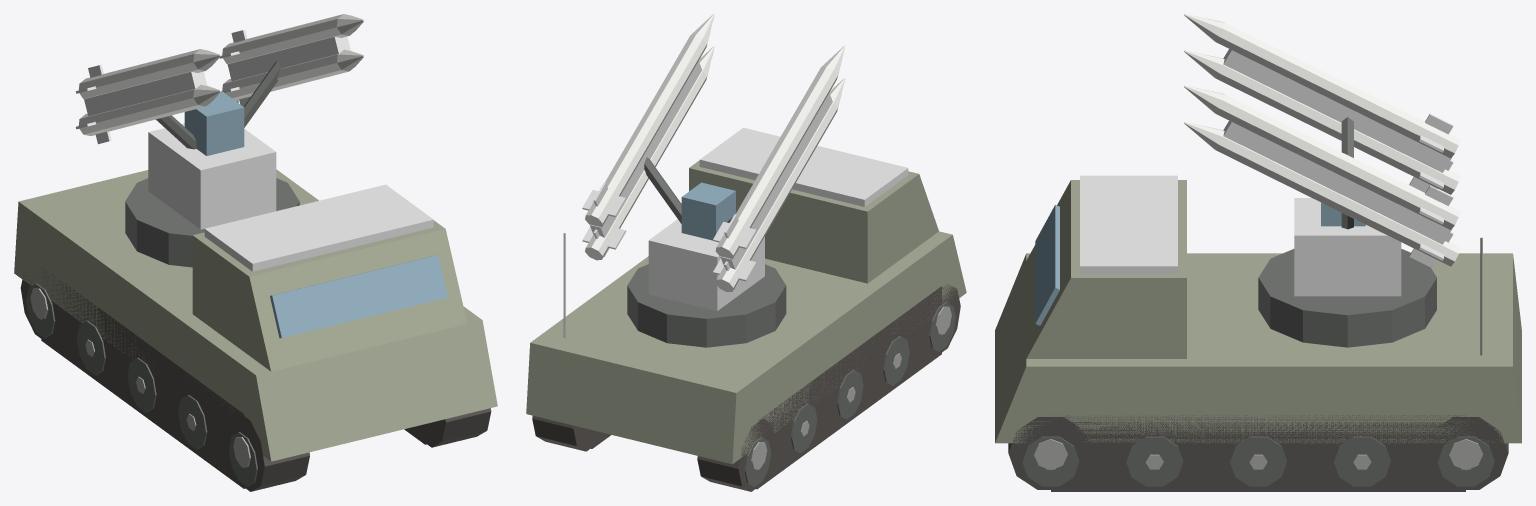
The model's file is civ_unit_mobile_sam.glb.
3 views of the same model, side by side, from view 1: azimuth 30°, elevation 25°; view 2: azimuth 150°, elevation 25°; view 3: azimuth 270°, elevation 25° (orthographic). The views are drawn at different scales.
Parts seen in each view (by area): view 1: civ_unit_mobile_sam; view 2: civ_unit_mobile_sam; view 3: civ_unit_mobile_sam.
Part boxes in pixels (bbox=[...]): civ_unit_mobile_sam: bbox=[14, 14, 497, 491]; civ_unit_mobile_sam: bbox=[526, 14, 966, 491]; civ_unit_mobile_sam: bbox=[995, 14, 1521, 491].
Size of the model in its own units: 3.07 by 4.76 by 5.9.
